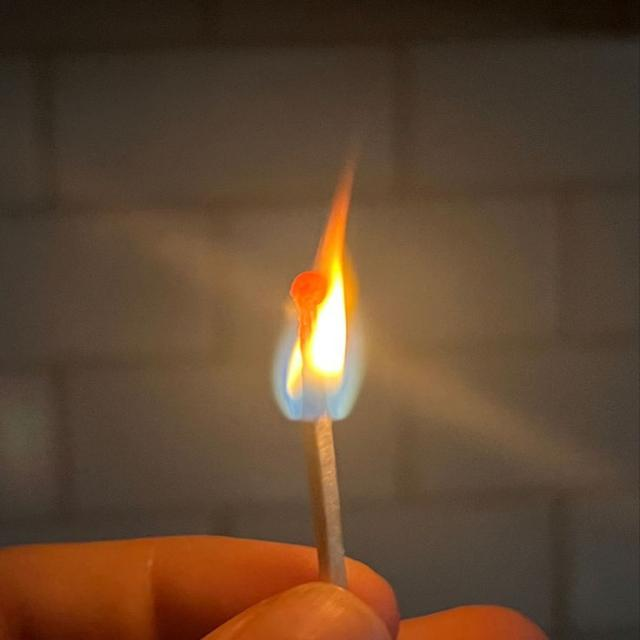fire: (272, 165, 365, 423)
